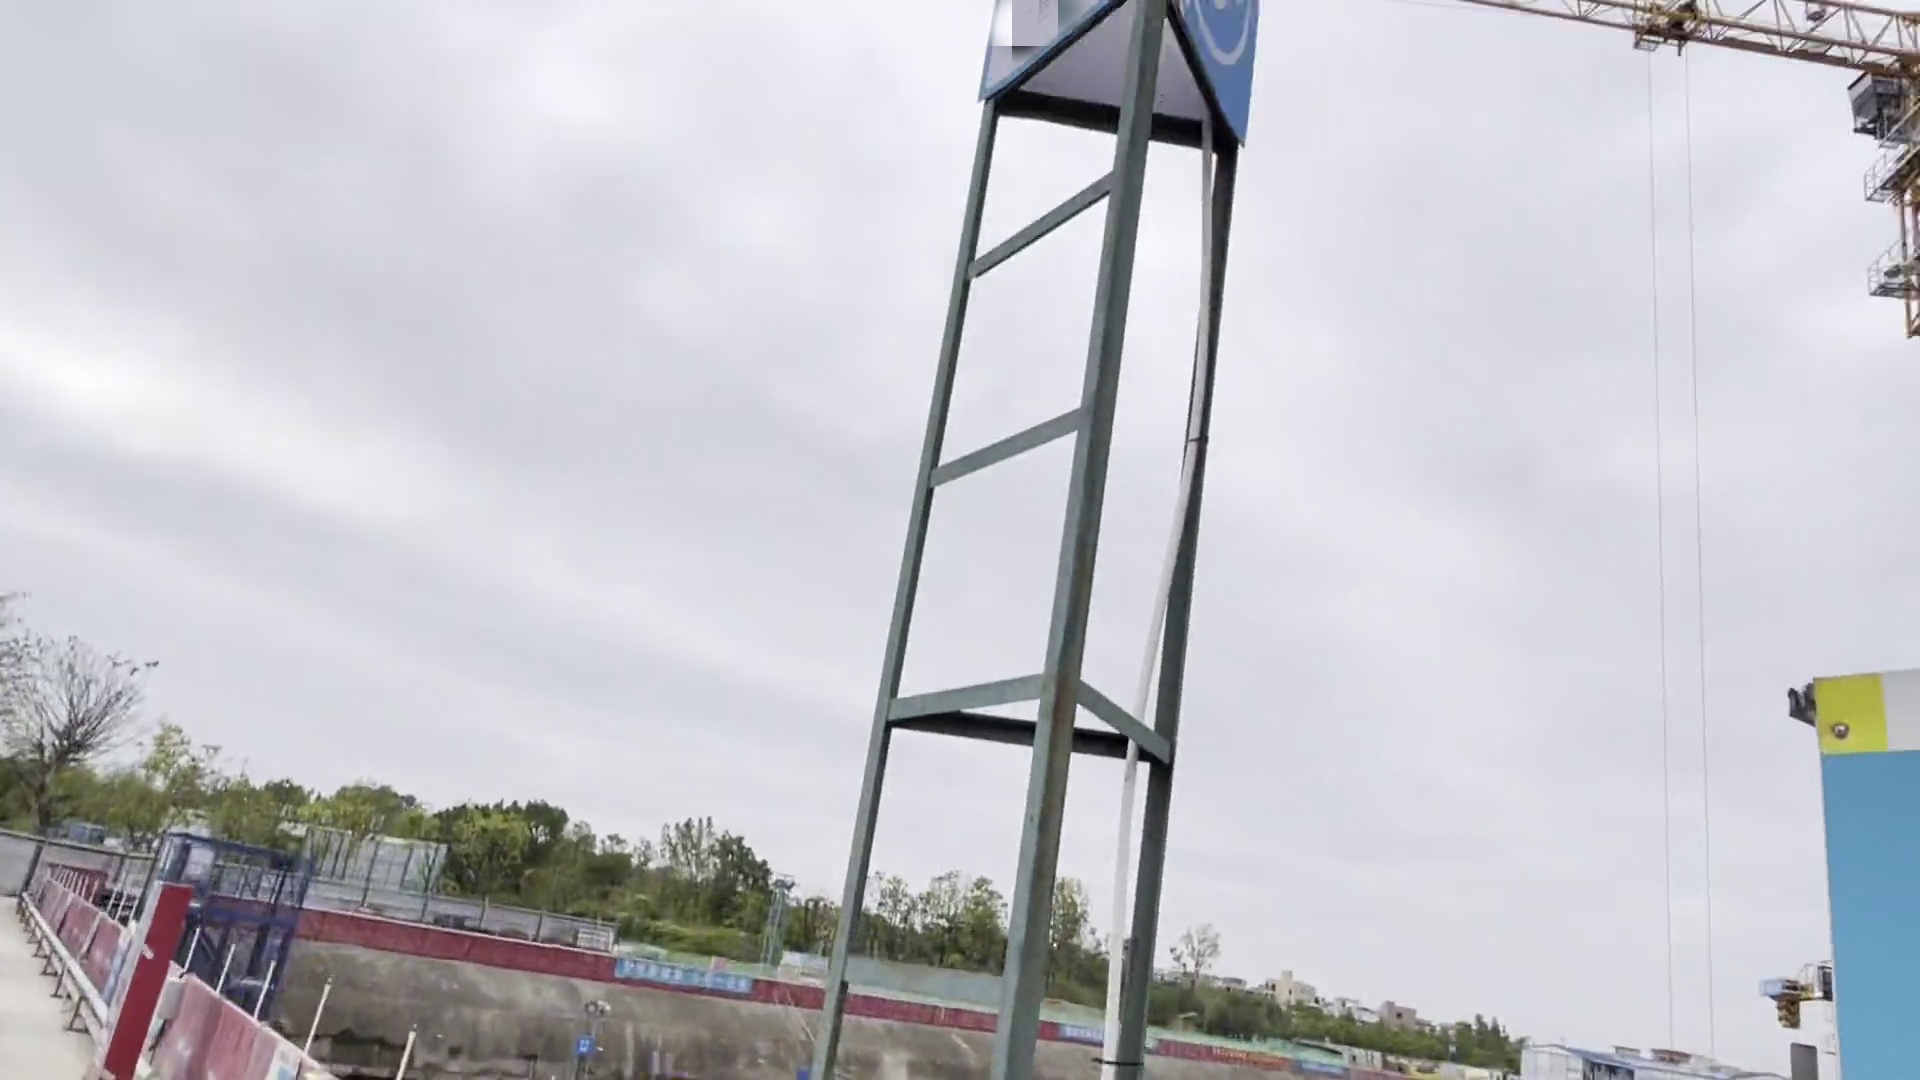slogan: (611, 949, 762, 994)
